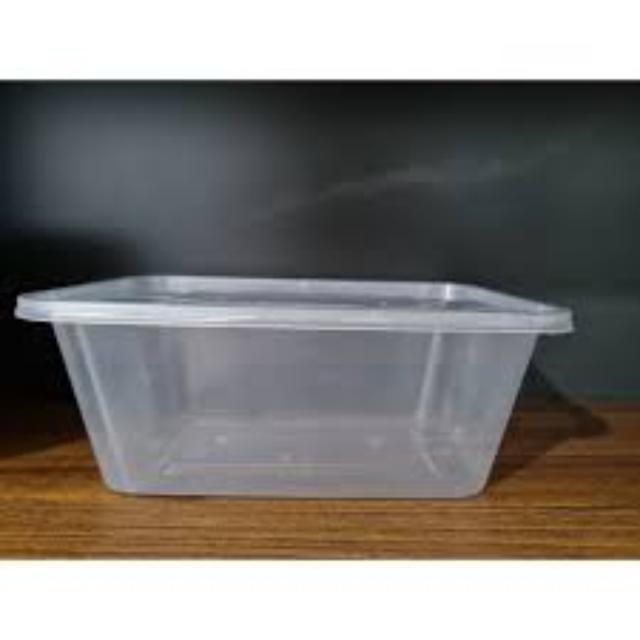Recipiente plastico: (15, 274, 574, 503)
